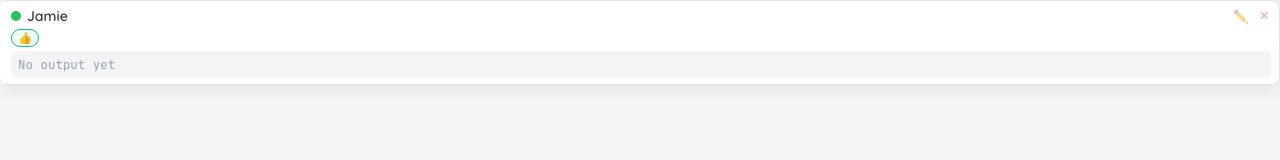
Test: StudentCard › thumbs up › sends a 👍 without expanding the card, then confirms and blocks a repeat
Click the button named "Send Jamie a thumbs up" at (25,38), box [11,29,39,47]
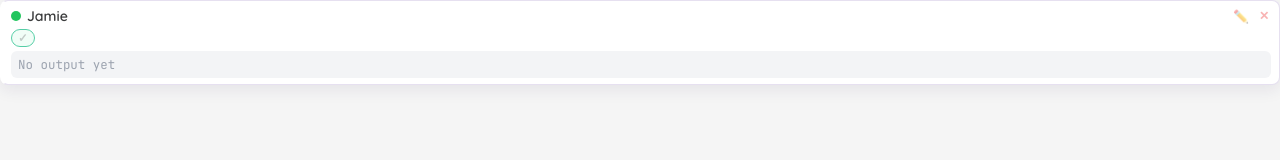
Expected: the button named "Send Jamie a thumbs up" is disabled, [11,29,35,47]
Expected: the button named "Send Jamie a thumbs up" reads "✓", [11,29,35,47]
